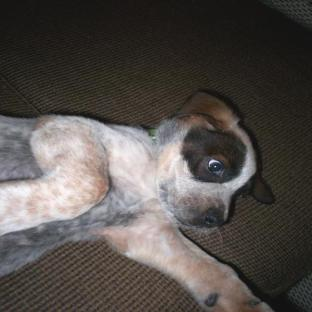Animal: (1, 92, 274, 311)
